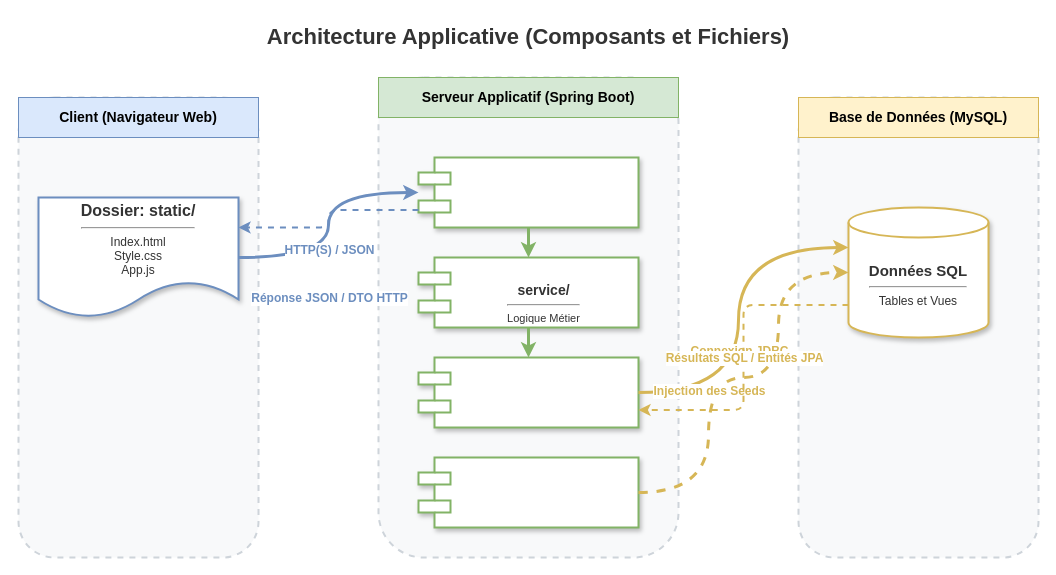
The diagram is 1056 pixels wide and 575 high, and some of its shapes have lost their labels. The centre of each missing label's shape, as x and y in pixels:
"controller/ API REST / HTTP" goes at (x=529, y=193).
"repository/ Accès aux Données (JPA)" goes at (x=529, y=393).
"seed/ Initialisation et Fausses Données" goes at (x=529, y=493).
